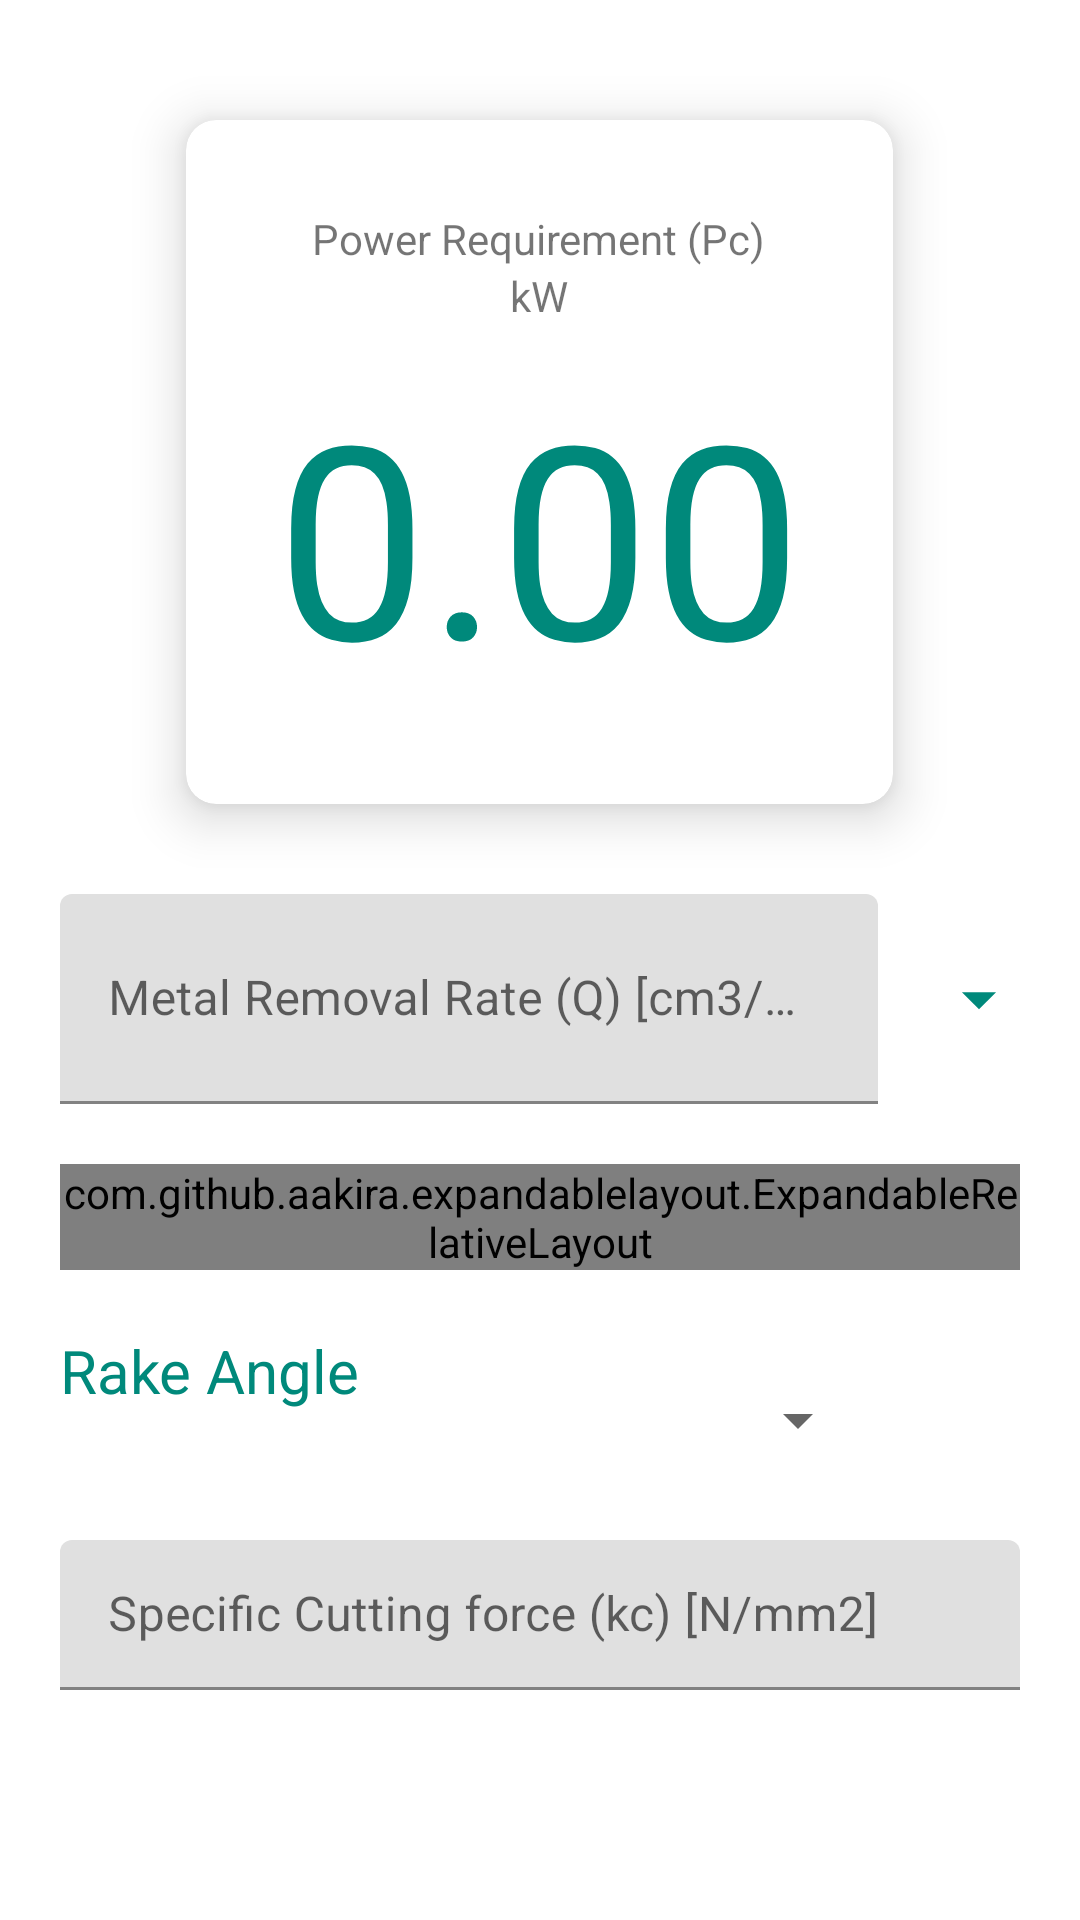

Point at icon controls on the screen. Image size 1080px x 1920px, points as [x,y].
arrow drop down: [979,1000]
